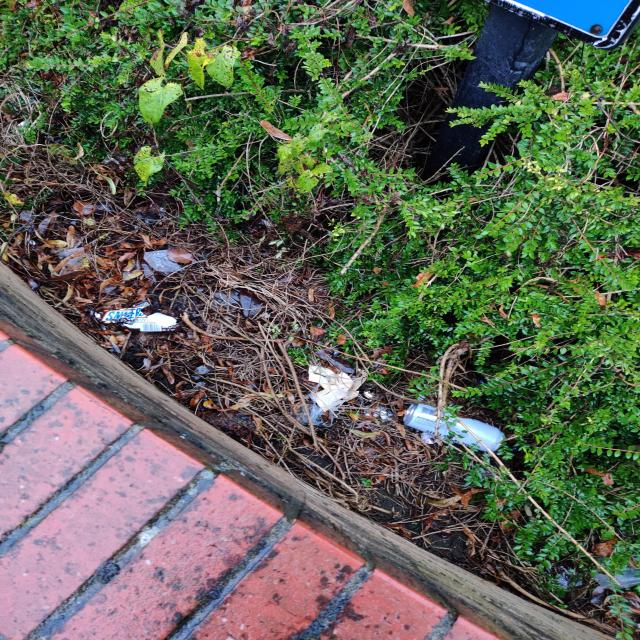litter: (401, 401, 507, 453), (307, 364, 365, 413), (91, 304, 180, 334), (591, 567, 637, 594)
